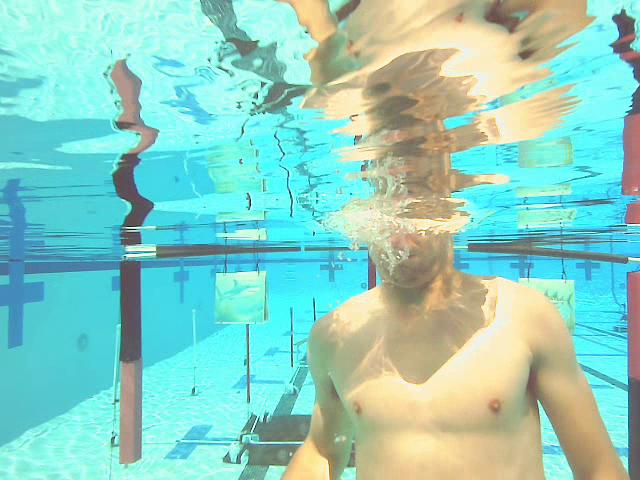black_poster: (244, 325, 249, 403), (290, 307, 293, 367), (313, 298, 316, 322)
left_gate_poster: (119, 262, 142, 463)
right_gate_poster: (629, 272, 639, 480)
shark: (216, 271, 268, 324)
